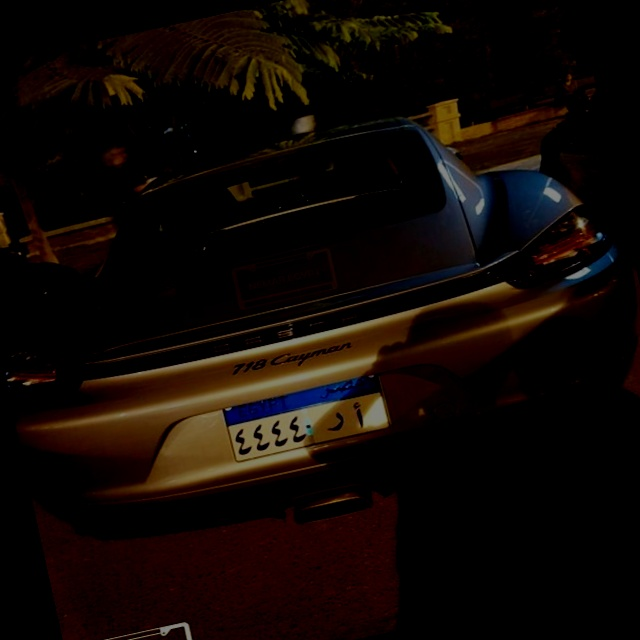License Plate: (216, 368, 399, 466)
